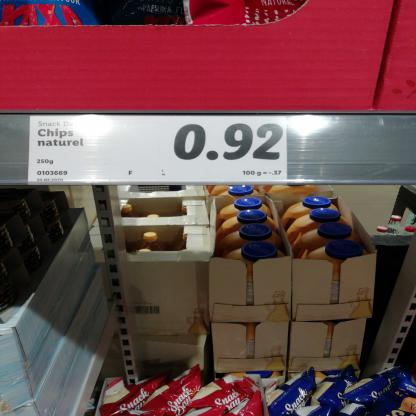prtg: (28, 116, 288, 186)
